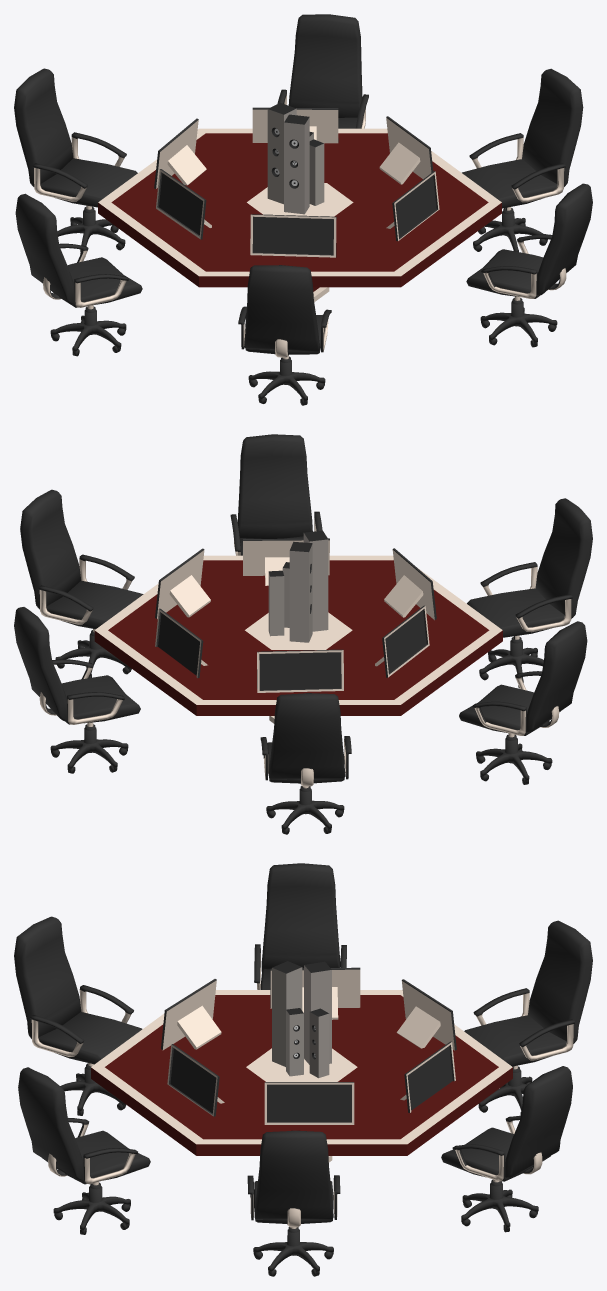
Rendered from 126 - Multiplayer +Audio.glb.
The picture shows the model from 3 angles, top to bottom: view 1: azimuth 30°, elevation 25°; view 2: azimuth 150°, elevation 25°; view 3: azimuth 270°, elevation 25°; orthographic projection. The views are drawn at different scales.
Parts seen in each view (by area): view 1: 126 - Multiplayer con audio; view 2: 126 - Multiplayer con audio; view 3: 126 - Multiplayer con audio.
Boxes of the visible parts, x1,y1,x2,y2 form: 126 - Multiplayer con audio: [14, 14, 592, 405]; 126 - Multiplayer con audio: [14, 434, 592, 834]; 126 - Multiplayer con audio: [14, 863, 592, 1276].
Size of the model in its own units: 3.17 by 1.01 by 2.82.
